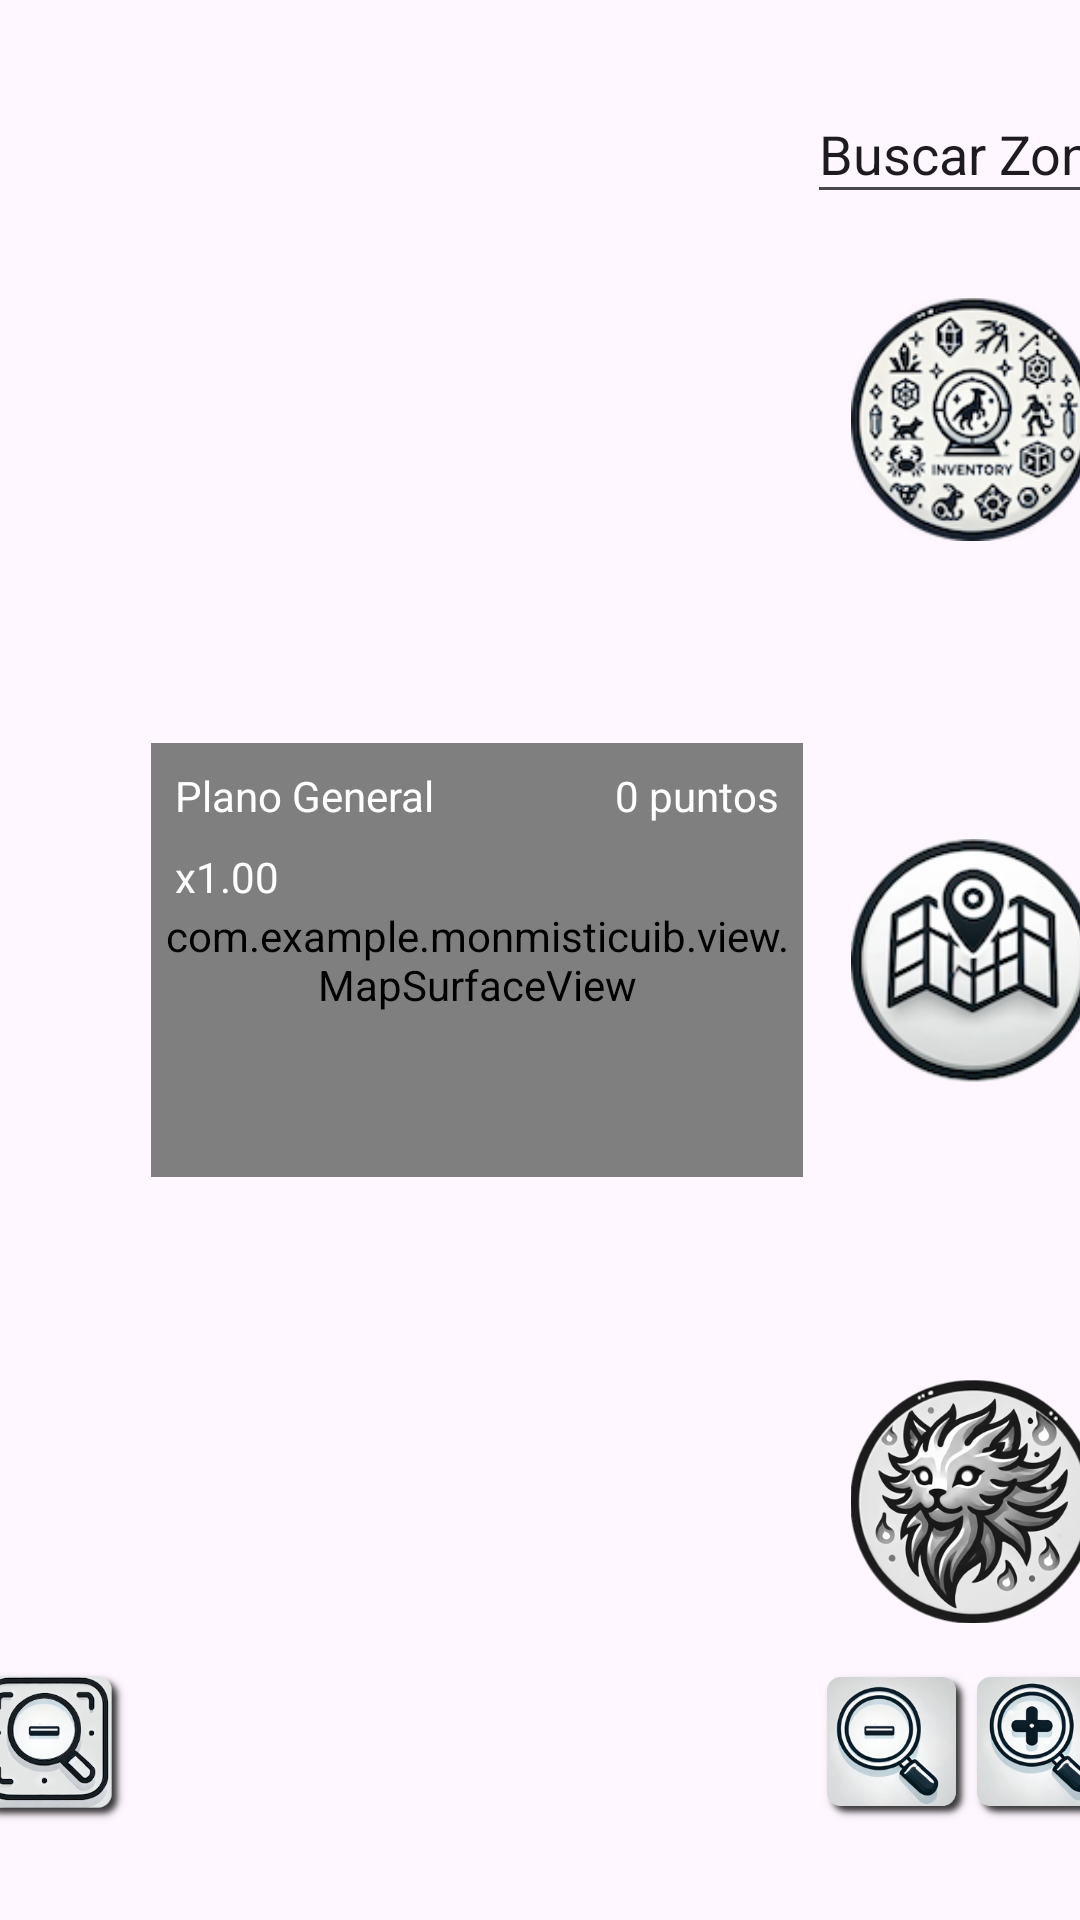

Icon click points for this 1080×1920 phone screenshot, format point (x, y):
iconmapa: point (965, 960)
imgcriaturag: point (965, 1501)
zoomout: point (896, 1746)
